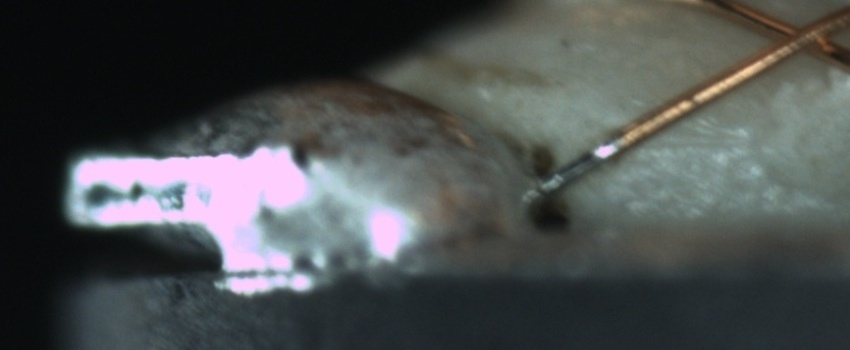CL: (753, 7, 846, 66)
DL: (633, 114, 755, 170)
TS: (539, 136, 622, 193)
